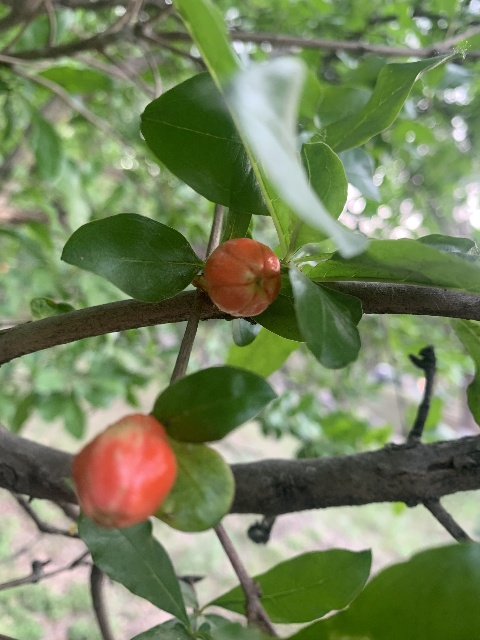bud: (71, 413, 177, 530), (200, 237, 281, 316)
